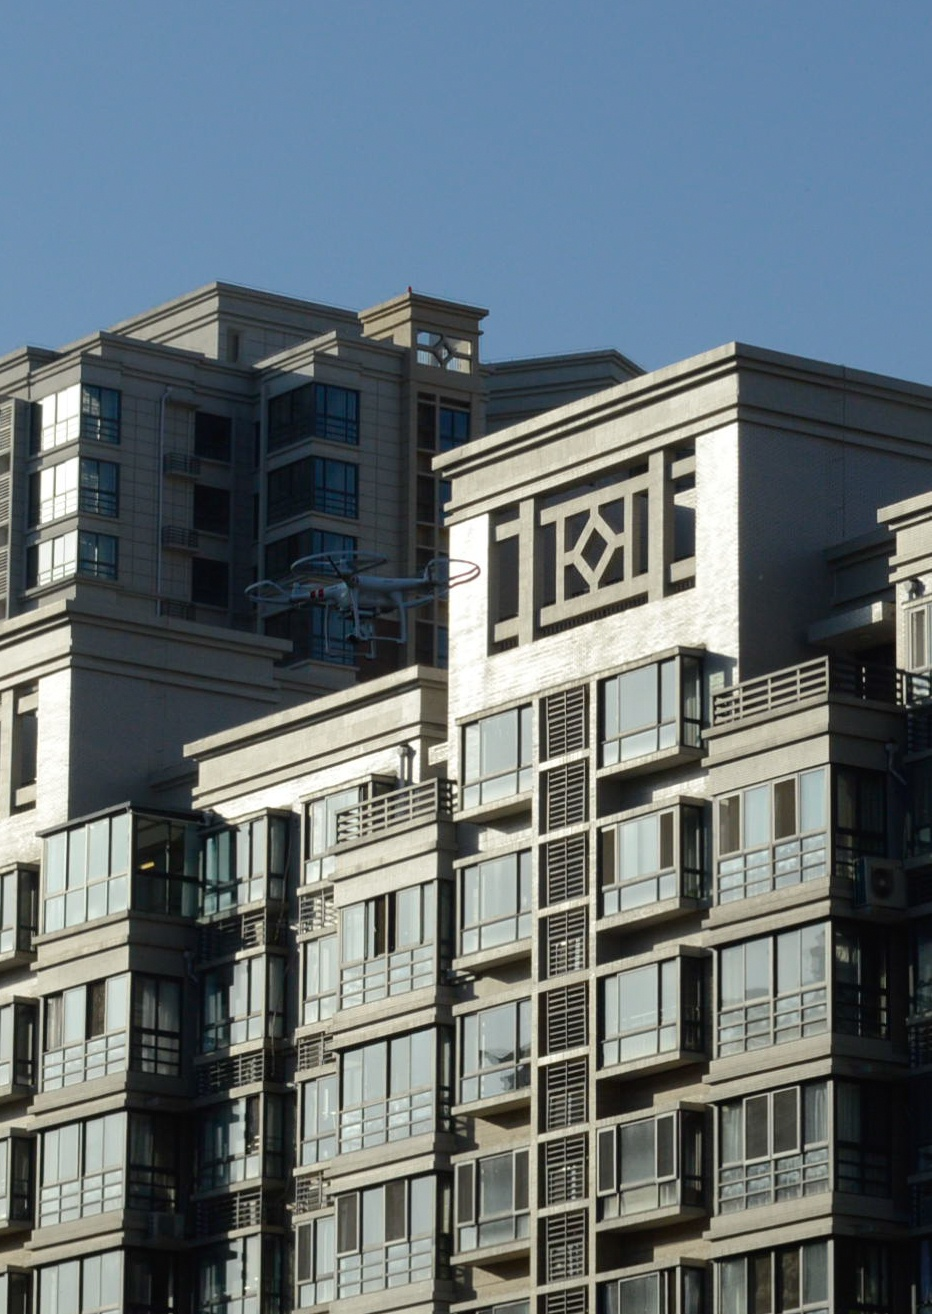DJI: (243, 550, 483, 655)
